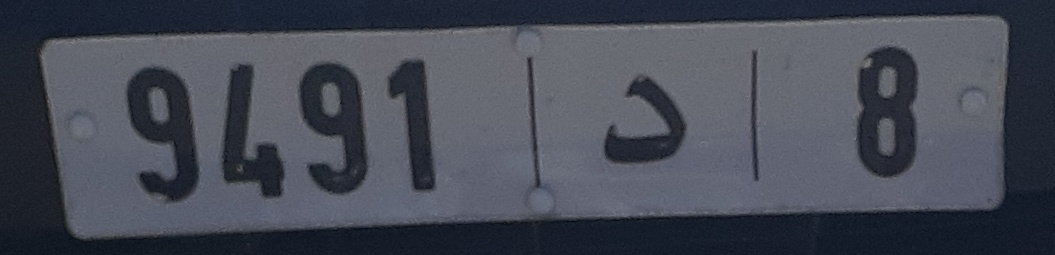1: (375, 36, 448, 201)
4: (207, 47, 294, 212)
8: (843, 35, 931, 186)
9: (110, 54, 210, 219), (294, 41, 375, 205)
d: (573, 58, 699, 189)
